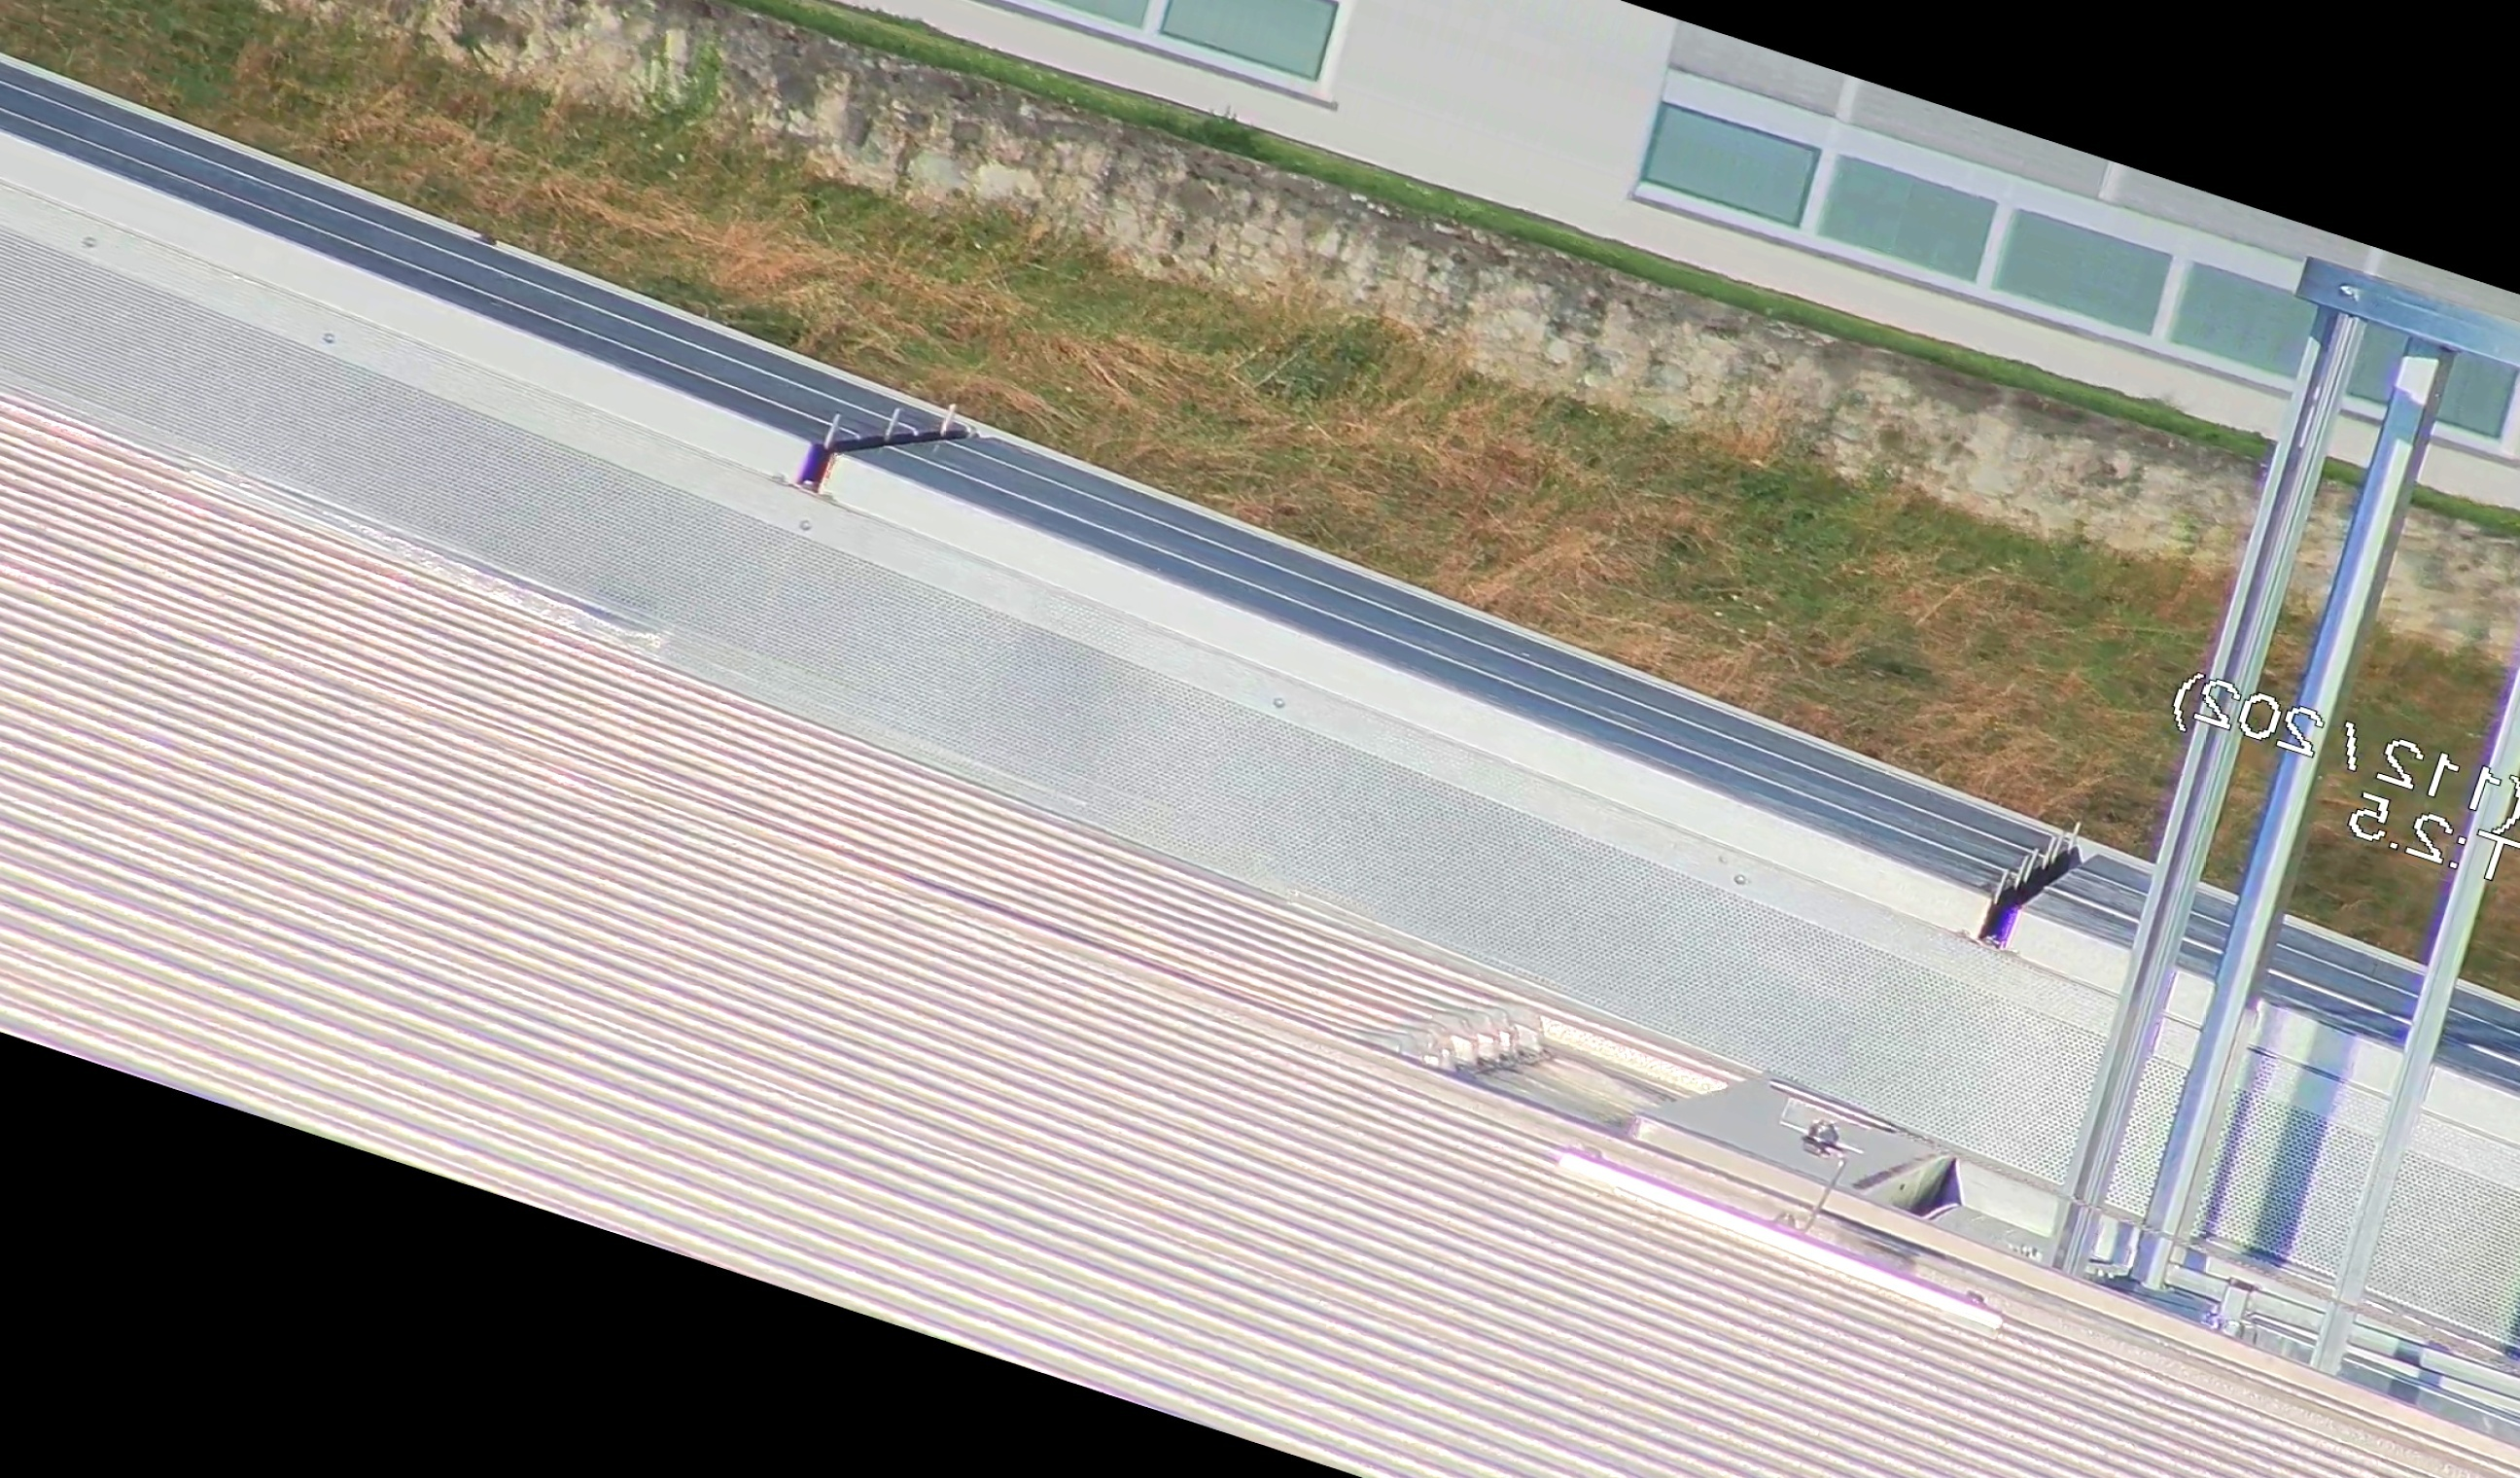Other: (1956, 799, 2131, 980)
